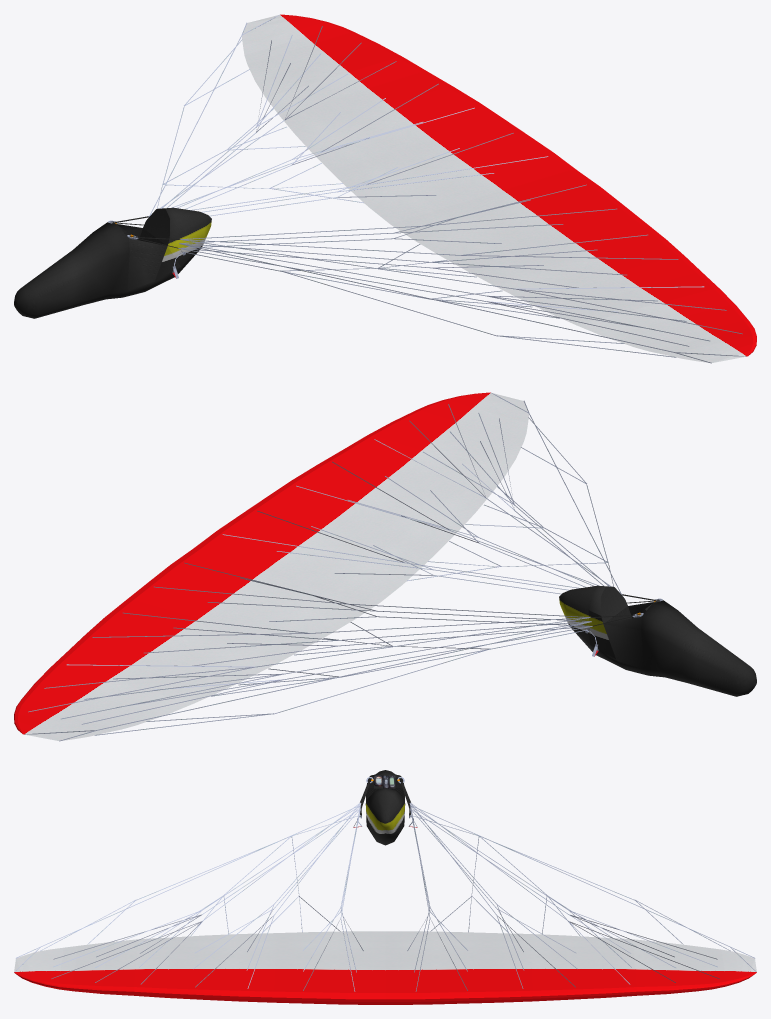
File: paraglider-red-launch-cbj_LOD01.gltf
The picture shows the model from 3 angles, top to bottom: view 1: azimuth 30°, elevation 25°; view 2: azimuth 150°, elevation 25°; view 3: azimuth 270°, elevation 25°; orthographic projection. The views are drawn at different scales.
Parts seen in each view (by area): view 1: wing01; view 2: wing01; view 3: wing01.
Part boxes in pixels (left/top/right/bottom): wing01: left=14, top=14, right=756, bottom=363; wing01: left=14, top=392, right=756, bottom=741; wing01: left=14, top=770, right=756, bottom=1004.
Size of the model in its own units: 7.71 by 1.08 by 11.07.
